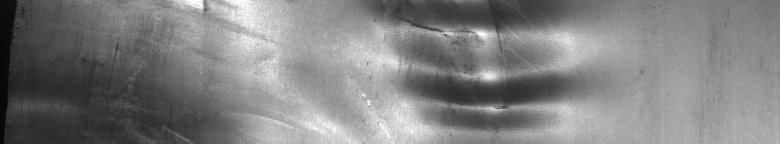ke: (404, 20, 544, 113)
